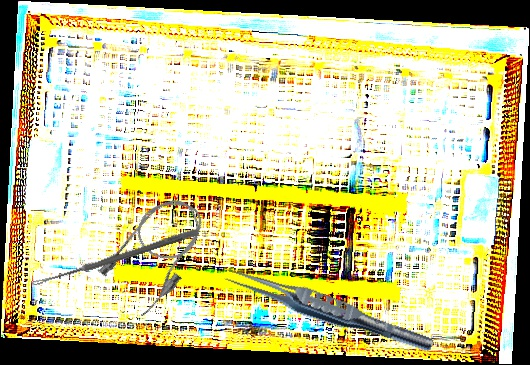Cannula: (92, 184, 221, 322)
Surgical Spoon: (31, 227, 199, 289)
Tissue Forceps: (219, 261, 438, 358)
